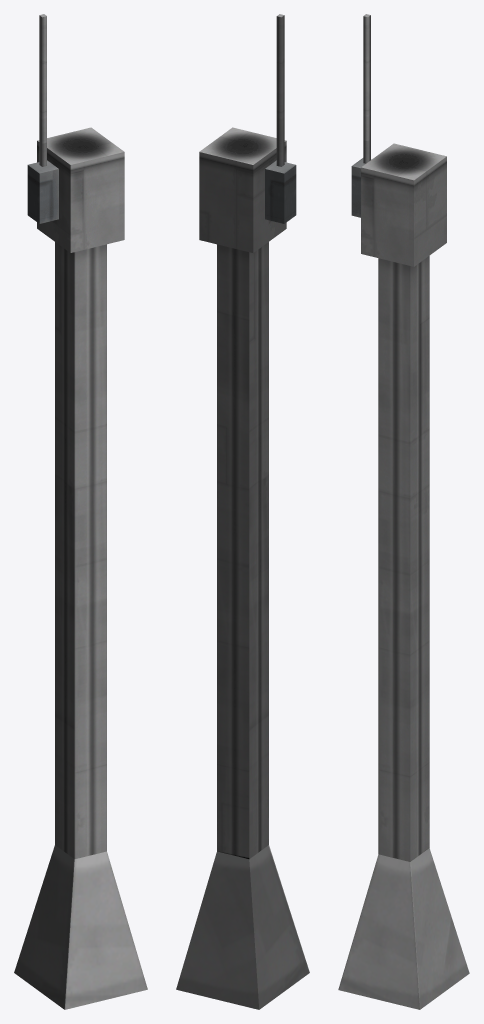
Rendered from OBJ_Lightpost.FBX.
The picture shows the model from 3 angles, left to right: view 1: azimuth 30°, elevation 25°; view 2: azimuth 150°, elevation 25°; view 3: azimuth 330°, elevation 25°; orthographic projection.
Parts seen in each view (by area): view 1: OBJ_Lightpost; view 2: OBJ_Lightpost; view 3: OBJ_Lightpost.
Part boxes in pixels (box(x1,y1,x2,y2)): OBJ_Lightpost: box(14, 14, 147, 1009); OBJ_Lightpost: box(176, 14, 309, 1009); OBJ_Lightpost: box(338, 14, 469, 1009).
Size of the model in its own units: 0.2113 by 2.21 by 0.2087.
1 material, 1 textured.
